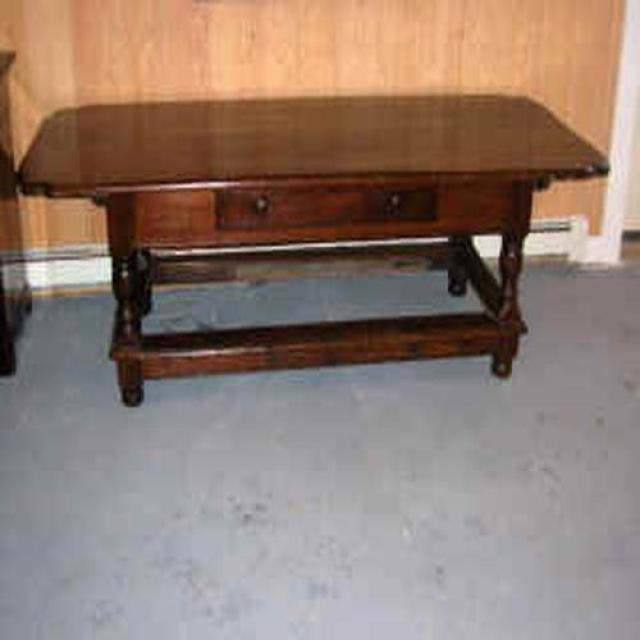table: (17, 92, 612, 410)
